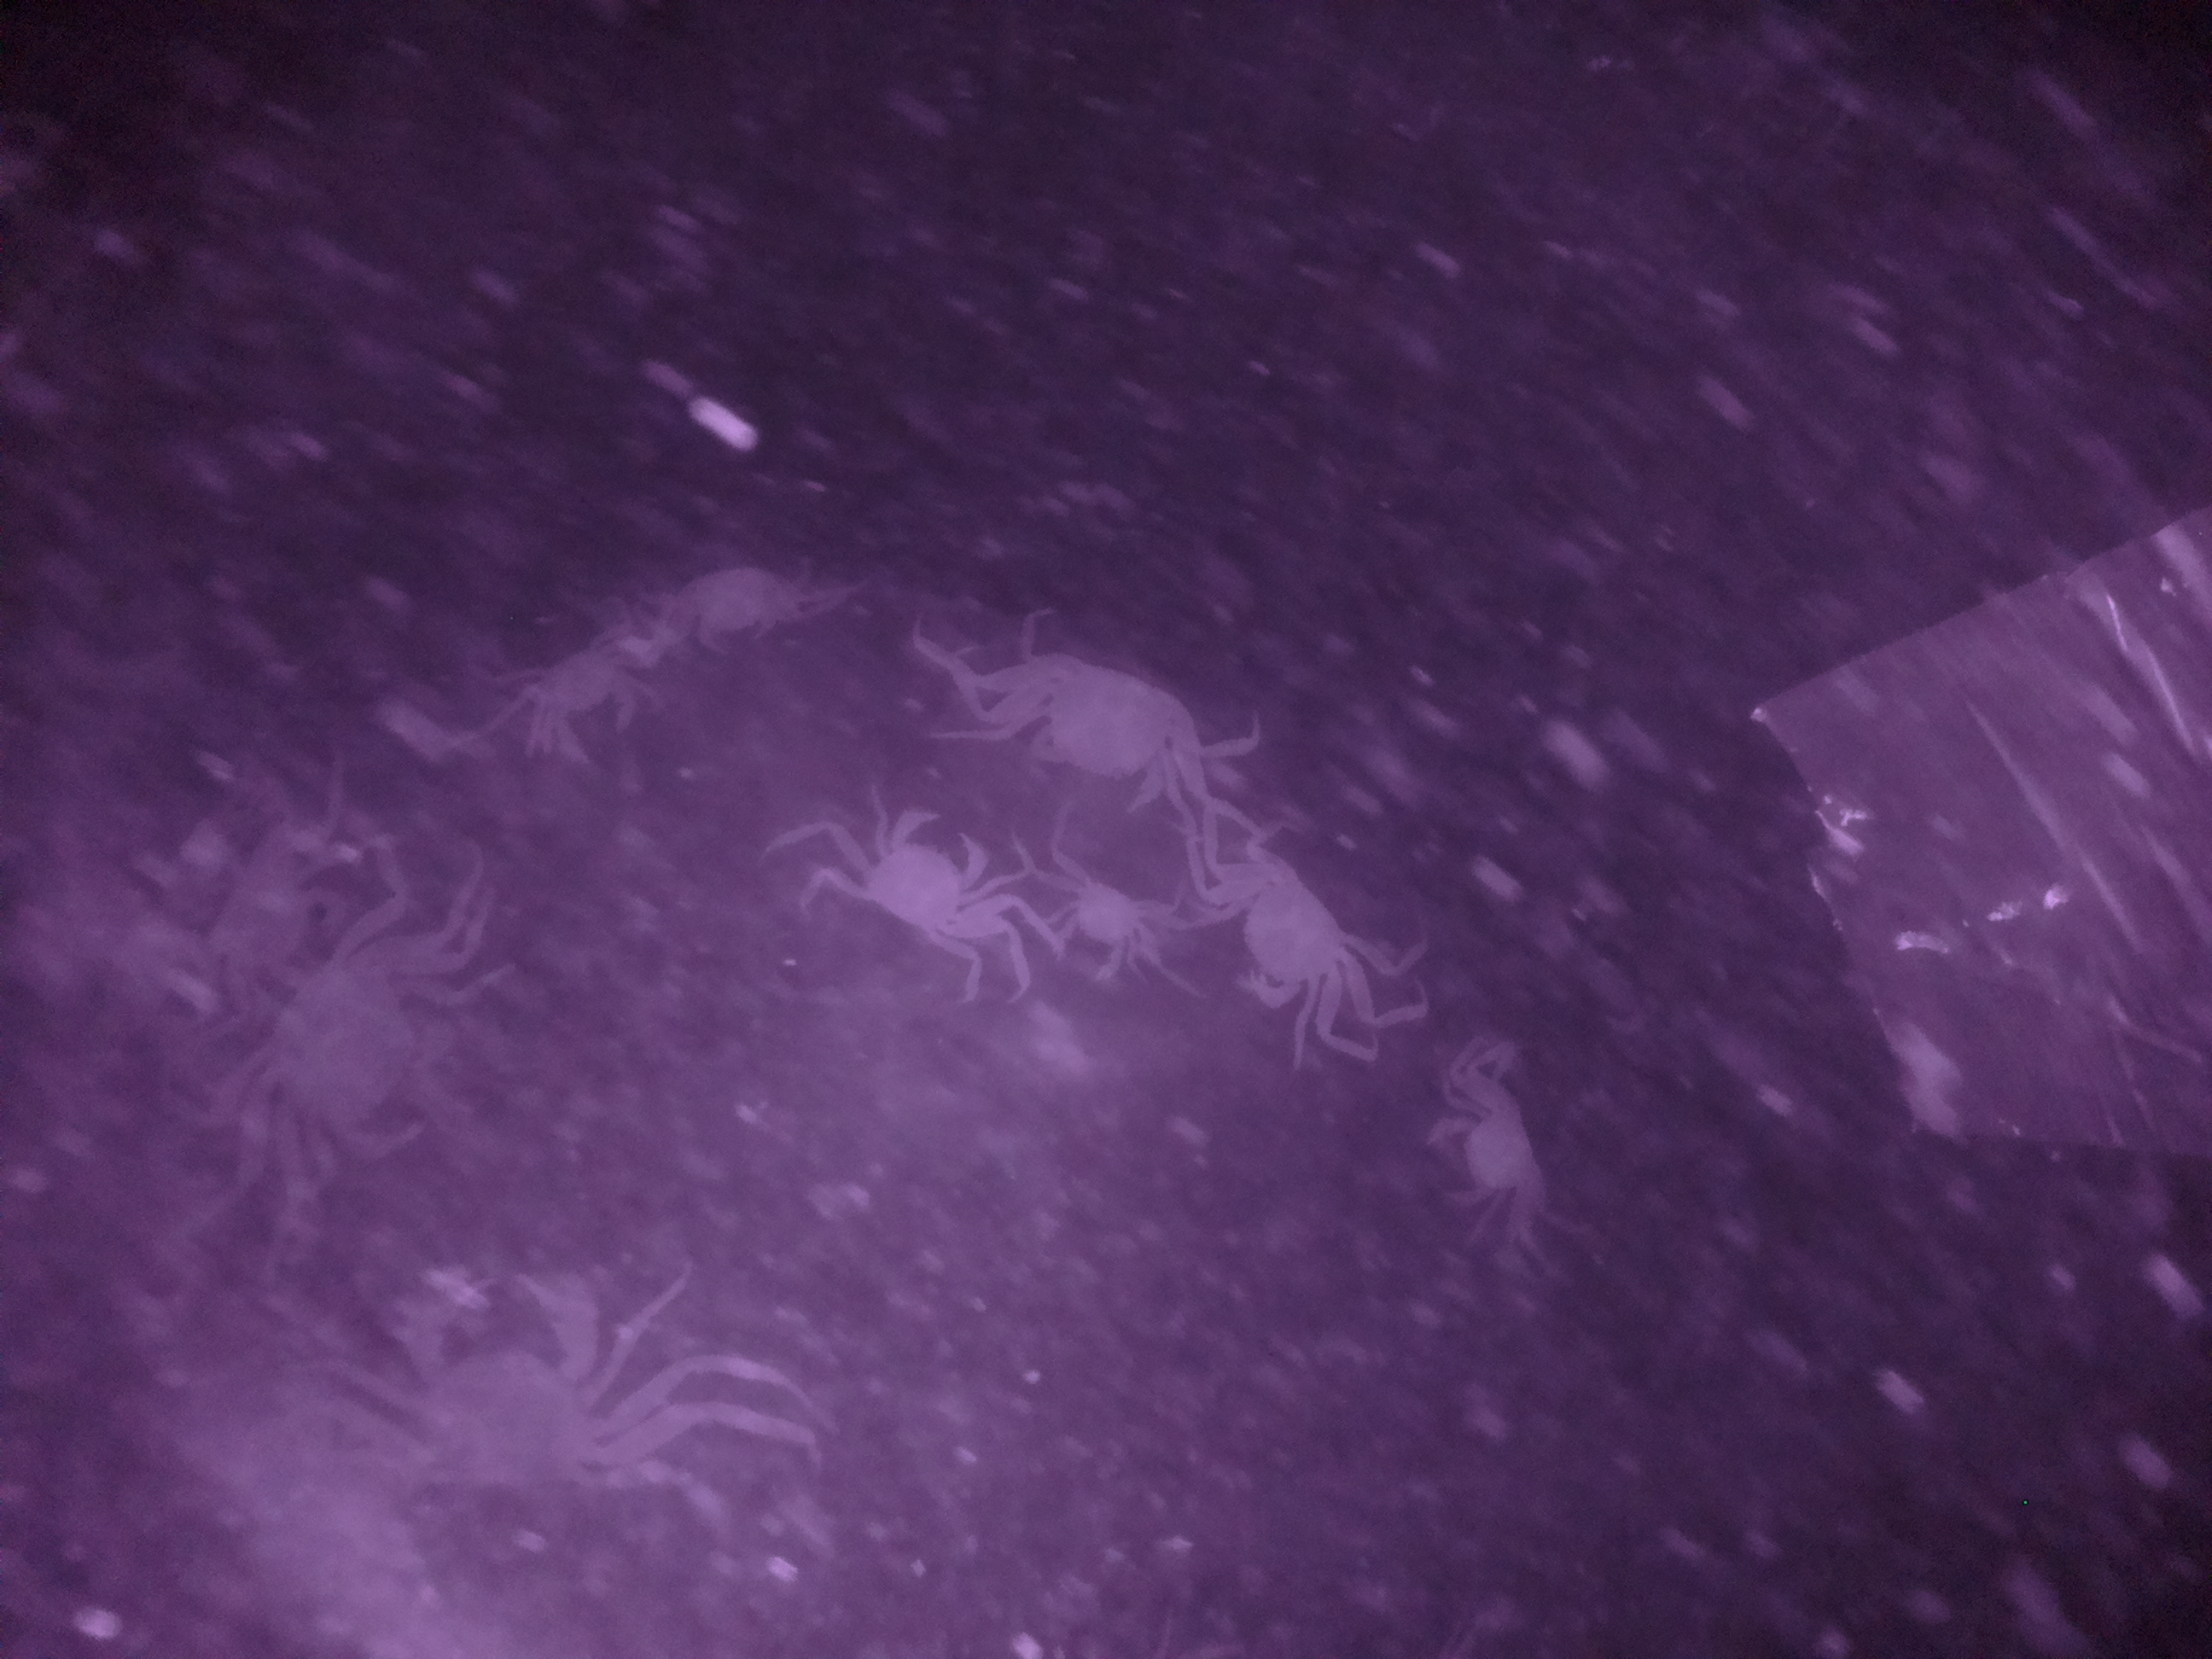Crab: (1003, 617, 1226, 824), (1198, 833, 1385, 1026), (846, 800, 1005, 948), (1425, 1080, 1561, 1234), (507, 640, 660, 775), (1043, 859, 1157, 983)
